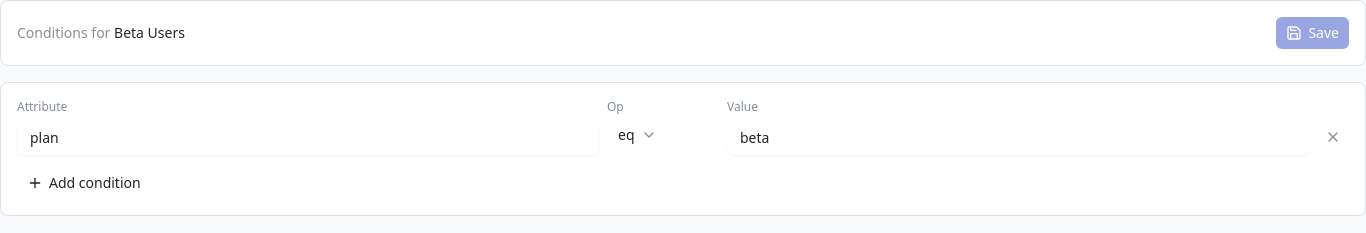
Test: SegmentRuleEditor › saves changes via API
Type "new-attr" into the field named "attribute".
click(308, 137); type("new-attr")  # box x1=17 y1=119 x2=599 y2=155
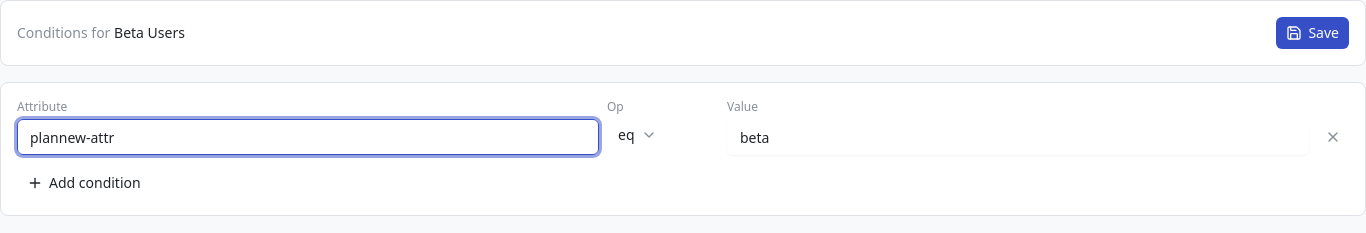
Click the button "Save".
click(1313, 33)  # box x1=1276 y1=17 x2=1349 y2=49
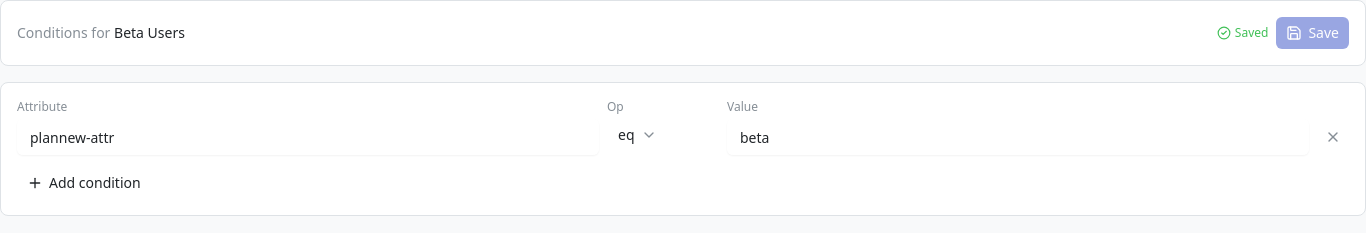
Expected: the text "Saved" is shown, x1=1217 y1=25 x2=1268 y2=41
